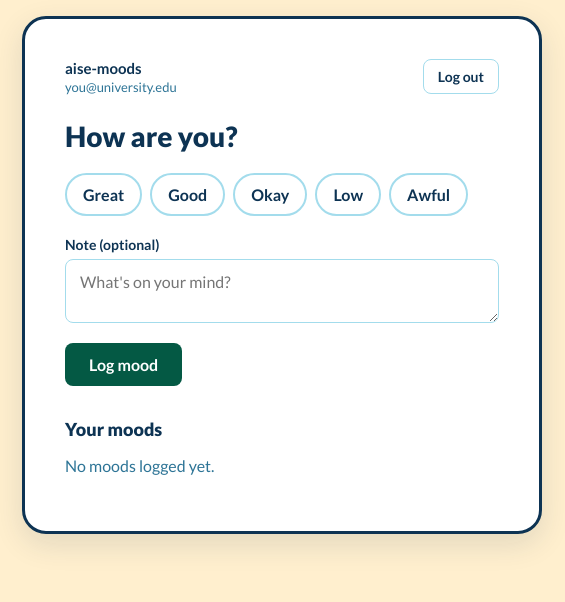
Test: Home screen › warns if you submit without picking a mood
Check: the text "No moods logged yet." is shown, box [65, 456, 214, 475]
Click the button "Log mood": (124, 364) [65, 343, 182, 386]
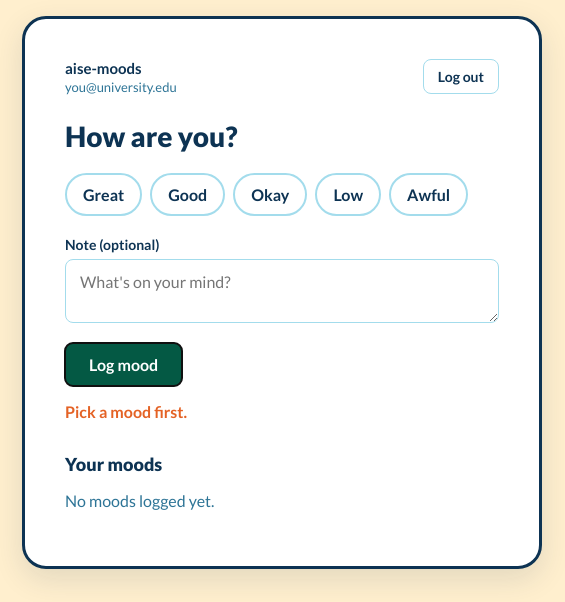
Check: the text "Pick a mood first." is shown, box [65, 402, 187, 421]
